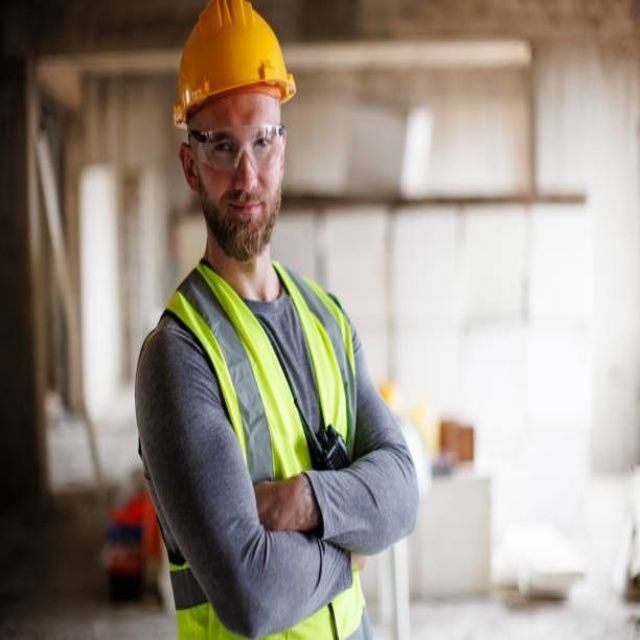Gafas: (187, 121, 287, 171)
Sin_guantes: (254, 473, 316, 535)
Sin_mascara: (214, 190, 280, 245)
